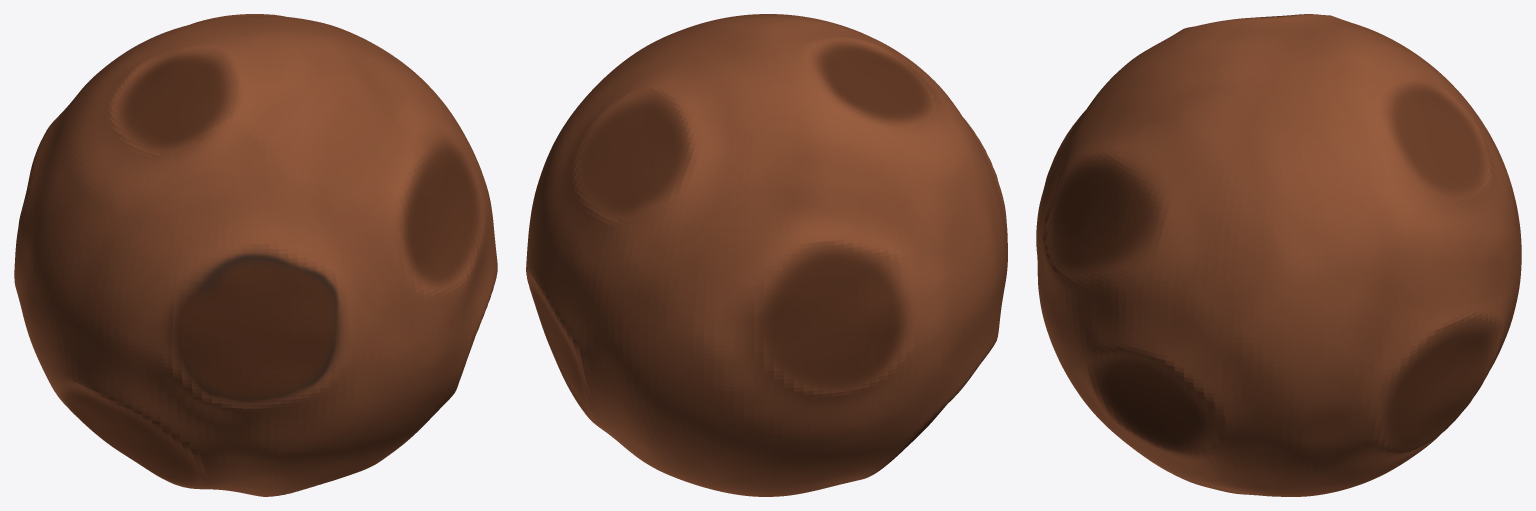
The model's file is MeteorBall.fbx.
3 renders of one model, left to right at view 1: azimuth 30°, elevation 25°; view 2: azimuth 150°, elevation 25°; view 3: azimuth 270°, elevation 25°, orthographic.
Parts seen in each view (by area): view 1: MeteorBall; view 2: MeteorBall; view 3: MeteorBall.
Boxes of the visible parts, left/top/right/bottom form: MeteorBall: left=14, top=14, right=497, bottom=496; MeteorBall: left=526, top=14, right=1007, bottom=496; MeteorBall: left=1036, top=14, right=1521, bottom=496.
Bounding box in the file's own units: 200 × 199 × 199.
Materials: 1 (1 with a texture image).
